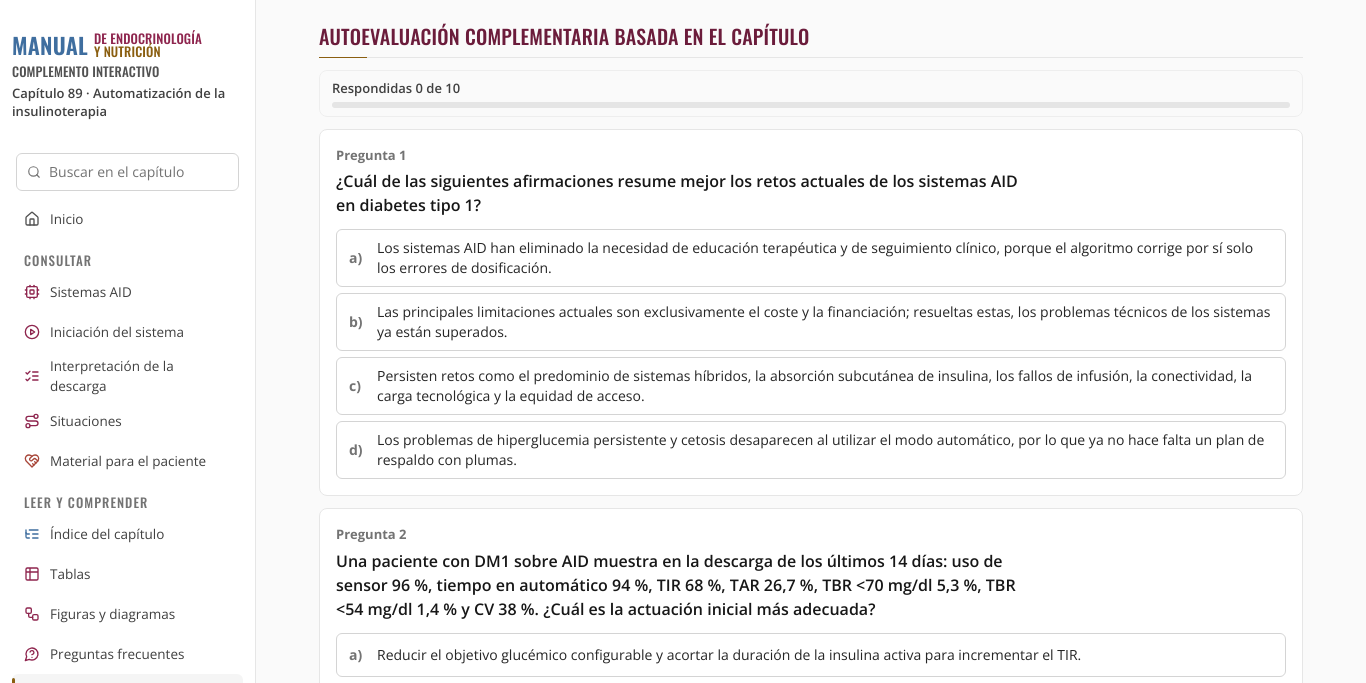
Test: App › el test razona la respuesta con la explicación del autor y el capítulo
Expected: the text "TAR 26,7 %" is shown, [336,550,1016,620]
Click the button "Persisten retos como el predominio de sistemas híbridos". click: (811, 386)
box: [336,357,1286,415]
(page scrolled)
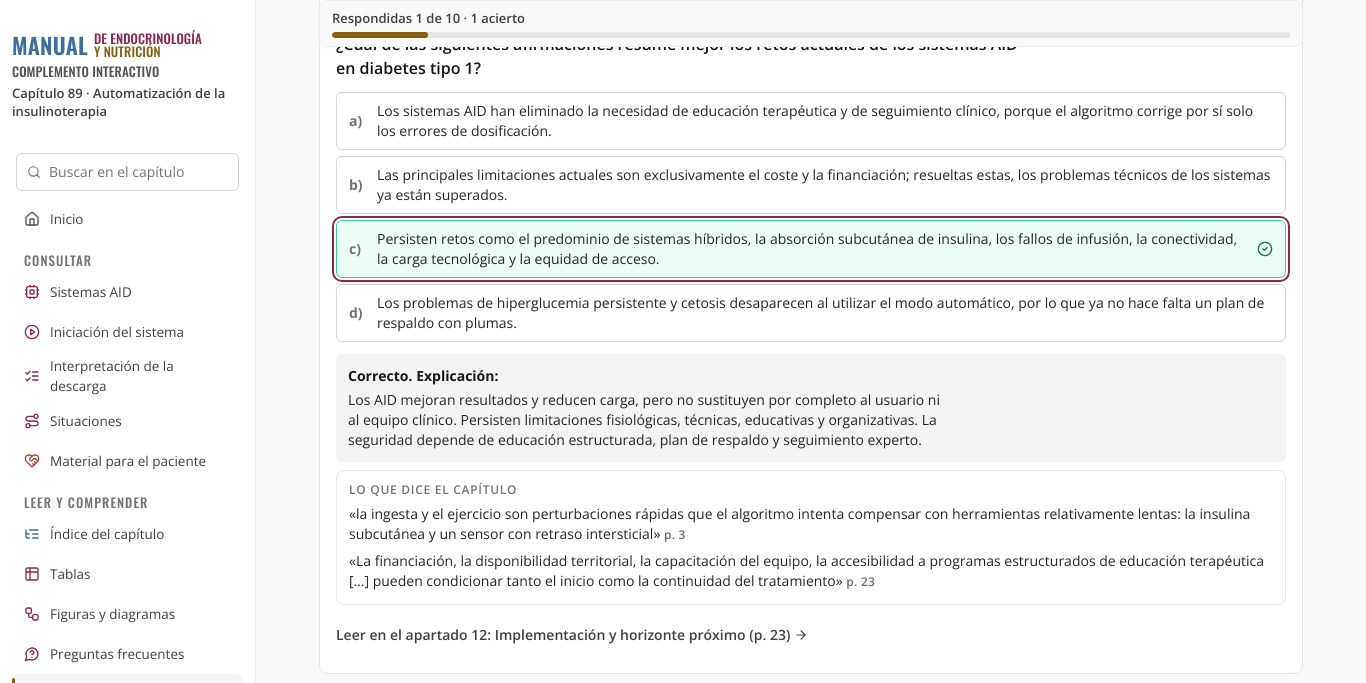
Expected: the text "Correcto. Explicación:" is shown, [348,366,498,385]
Expected: the text "Lo que dice el capítulo" is shown, [349,481,517,498]
